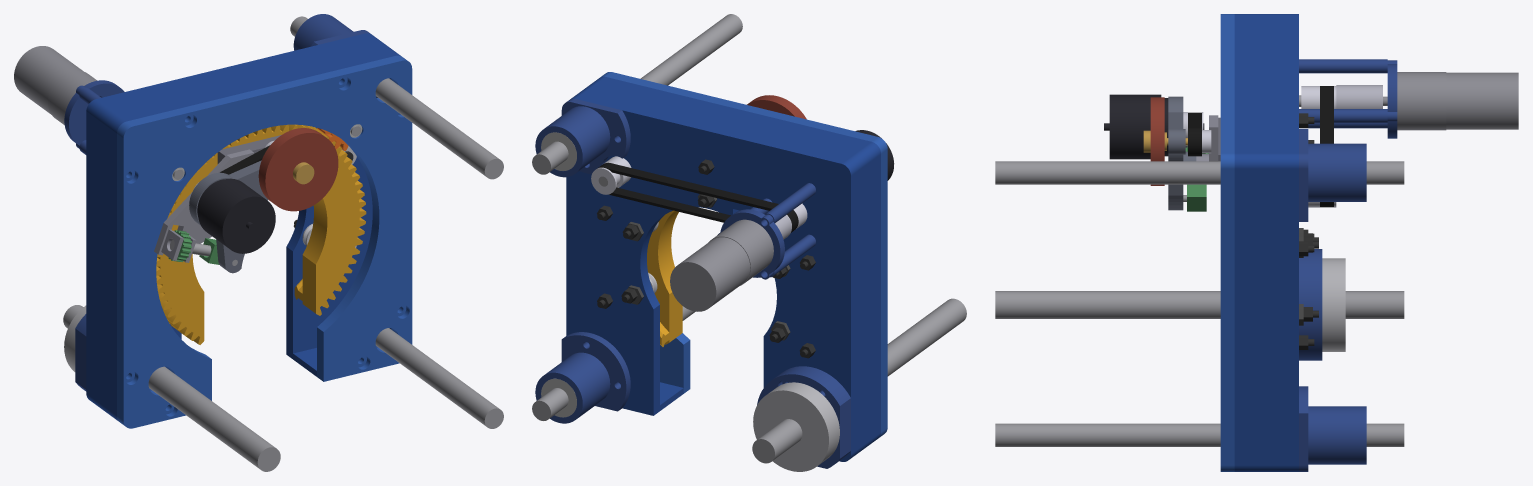
File: aplp-rotary.glb
3 views of the same model, side by side, from view 1: azimuth 30°, elevation 25°; view 2: azimuth 150°, elevation 25°; view 3: azimuth 270°, elevation 25° (orthographic). The views are drawn at different scales.
Parts seen in each view (by area): view 1: P3_front_plate, P1_back_plate, P2_ring_gear, C_wheel_38, C_ballscrew, C_spindle_motor_2212, C_rod10_62.0, C_JGA25_motor, C_rod10_-62.0, P5_tool_bracket, P6_swing_arm, P10_motor_bracket (+4 smaller); view 2: P1_back_plate, C_JGA25_motor, P3_front_plate, P11_bearing_block_B, C_SFU1204_nut, P11_bearing_block_T, C_ballscrew, C_rod10_62.0, C_belt_GT2_216, P2_ring_gear, P10_motor_bracket, P12_nut_adapter (+5 smaller); view 3: P1_back_plate, C_ballscrew, C_JGA25_motor, P3_front_plate, C_rod10_62.0, C_rod10_-62.0, P11_bearing_block_T, P11_bearing_block_B, P10_motor_bracket, C_spindle_motor_2212, C_SFU1204_nut, P12_nut_adapter (+6 smaller).
Part boxes in pixels (x1,y1,x2,y2): P3_front_plate: [117, 55, 412, 428]; P1_back_plate: [86, 33, 400, 421]; P2_ring_gear: [156, 124, 366, 344]; C_wheel_38: [258, 128, 338, 211]; C_ballscrew: [63, 305, 280, 471]; C_spindle_motor_2212: [197, 178, 275, 253]; C_rod10_62.0: [290, 16, 503, 179]; C_JGA25_motor: [14, 46, 96, 124]; C_rod10_-62.0: [375, 328, 503, 428]; P5_tool_bracket: [154, 149, 254, 262]; P6_swing_arm: [189, 160, 268, 273]; P10_motor_bracket: [64, 80, 124, 154]; P1_back_plate: [566, 76, 880, 461]; C_JGA25_motor: [670, 219, 773, 311]; P3_front_plate: [600, 72, 887, 437]; P11_bearing_block_B: [535, 332, 630, 423]; C_SFU1204_nut: [753, 382, 839, 471]; P11_bearing_block_T: [535, 98, 630, 177]; C_ballscrew: [752, 298, 966, 463]; C_rod10_62.0: [532, 14, 742, 174]; C_belt_GT2_216: [597, 162, 798, 232]; P2_ring_gear: [647, 210, 682, 346]; P10_motor_bracket: [718, 183, 815, 279]; P12_nut_adapter: [757, 366, 850, 468]; P1_back_plate: [1234, 14, 1298, 471]; C_ballscrew: [995, 291, 1404, 318]; C_JGA25_motor: [1383, 72, 1518, 130]; P3_front_plate: [1220, 14, 1234, 471]; C_rod10_62.0: [995, 161, 1404, 184]; C_rod10_-62.0: [995, 423, 1404, 446]; P11_bearing_block_T: [1299, 129, 1366, 221]; P11_bearing_block_B: [1299, 386, 1366, 471]; P10_motor_bracket: [1299, 59, 1397, 138]; C_spindle_motor_2212: [1104, 94, 1204, 159]; C_SFU1204_nut: [1322, 258, 1345, 351]; P12_nut_adapter: [1299, 249, 1322, 360].
Size of the model in its own units: 0.15 by 0.15 by 0.224.
